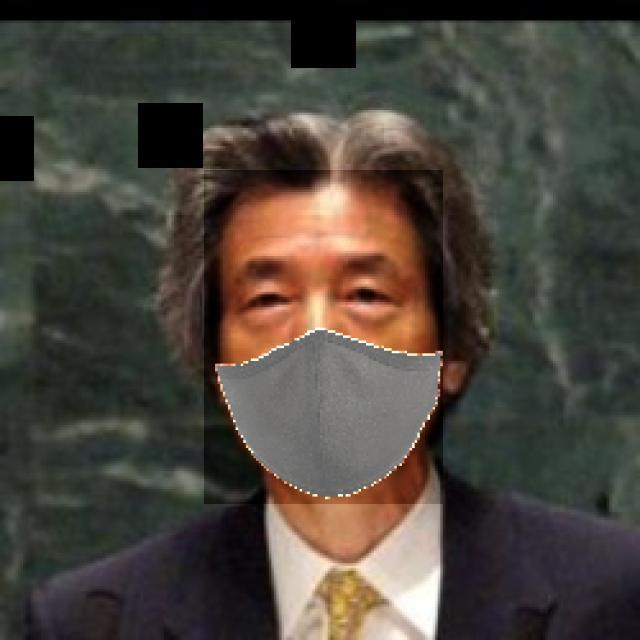cloth: (204, 170, 443, 504)
